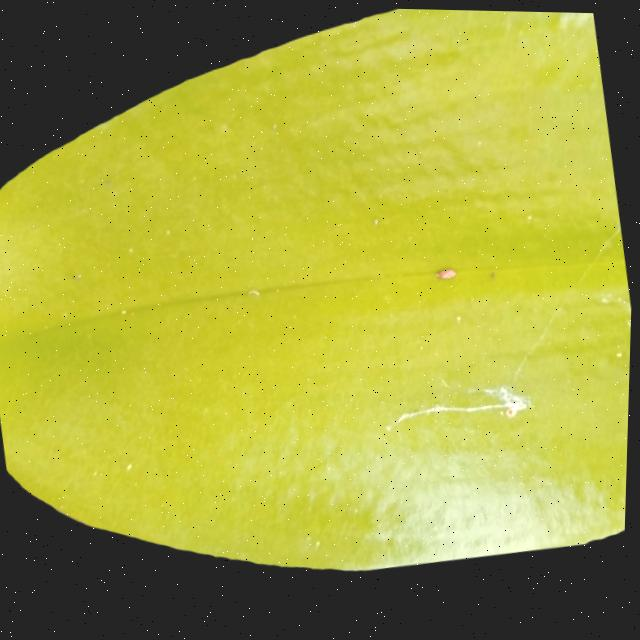mite: (432, 256, 504, 290), (54, 253, 100, 298), (85, 454, 147, 487), (119, 455, 146, 480), (483, 263, 506, 286), (243, 283, 268, 304), (66, 266, 90, 287), (368, 211, 388, 231), (504, 402, 522, 418), (247, 287, 264, 299), (119, 306, 136, 318), (70, 271, 86, 283), (125, 460, 139, 473), (91, 467, 105, 479), (488, 267, 500, 280), (126, 245, 138, 257), (372, 215, 383, 226), (491, 269, 498, 278)
spots: (0, 6, 633, 622)
